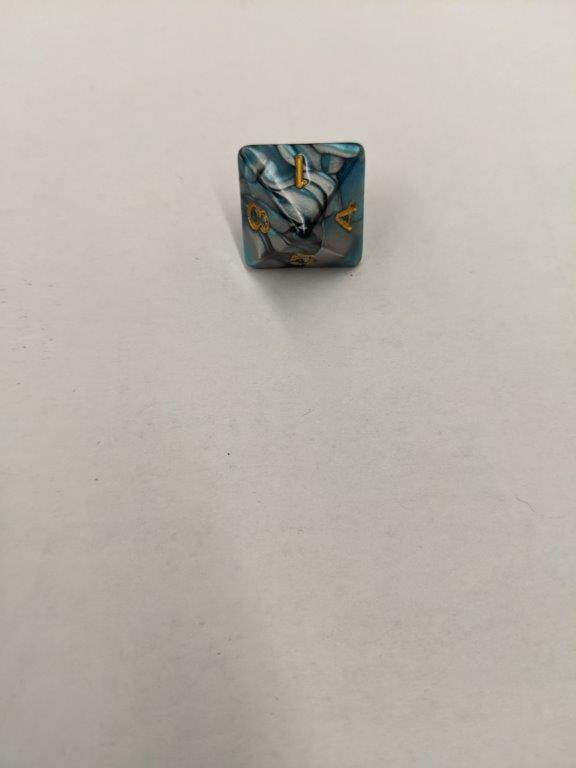d8-1: (236, 136, 365, 274)
